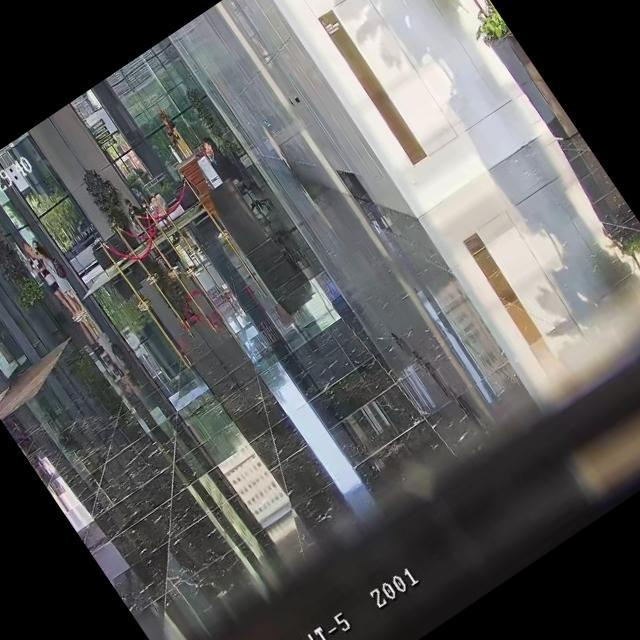person: (17, 238, 84, 324), (197, 132, 243, 188), (120, 192, 152, 232)
